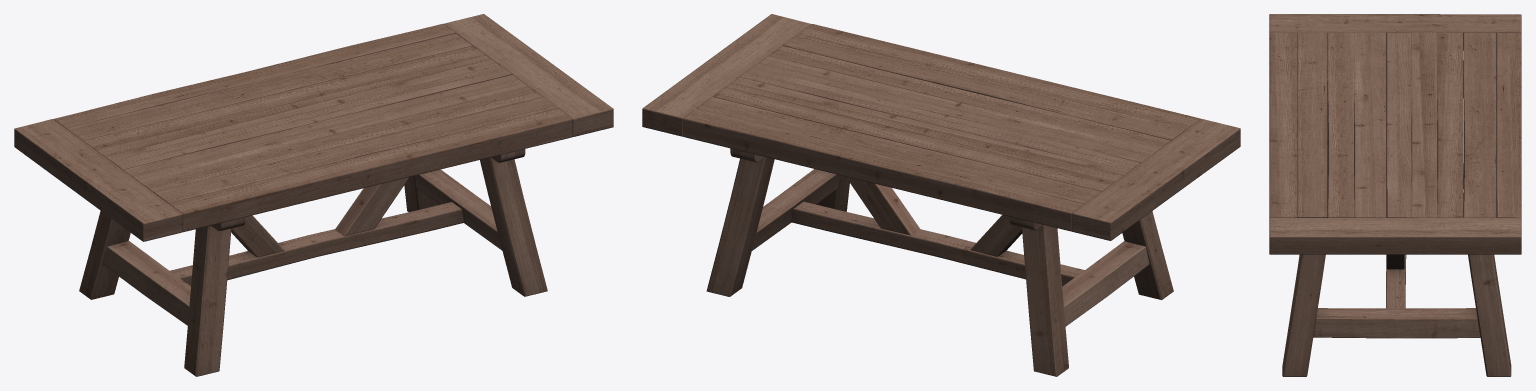
File: CTBION014NAT-UK-MDL-CM-FBX.fbx
The picture shows the model from 3 angles, left to right: view 1: azimuth 30°, elevation 25°; view 2: azimuth 150°, elevation 25°; view 3: azimuth 270°, elevation 25°; orthographic projection. The views are drawn at different scales.
Parts seen in each view (by area): view 1: PINE001; view 2: PINE001; view 3: PINE001.
Boxes of the visible parts, <box> form: PINE001: <box>14,14,613,376</box>; PINE001: <box>642,14,1240,376</box>; PINE001: <box>1269,14,1521,376</box>.
Size of what is drawn, in the model's own units: 125 by 44.19 by 59.8.
